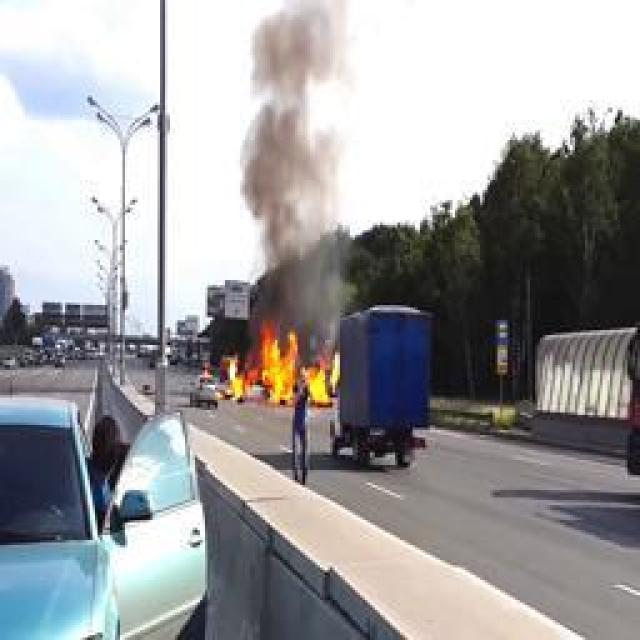Fire: (225, 322, 340, 406)
